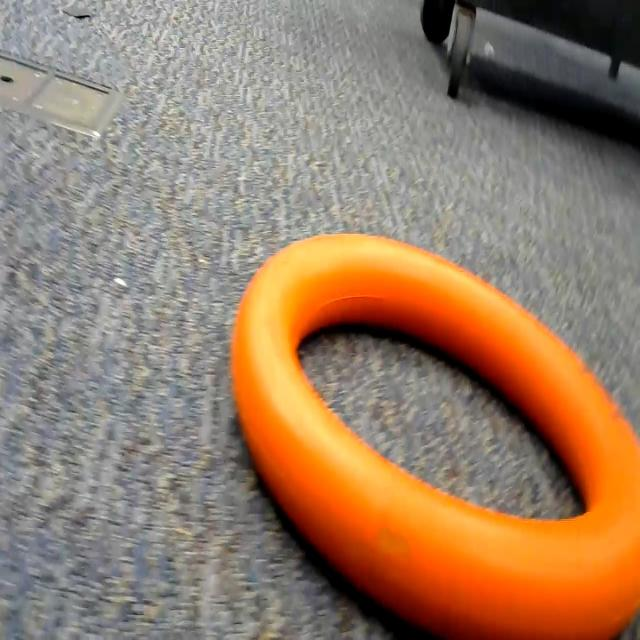note: (220, 200, 640, 640)
